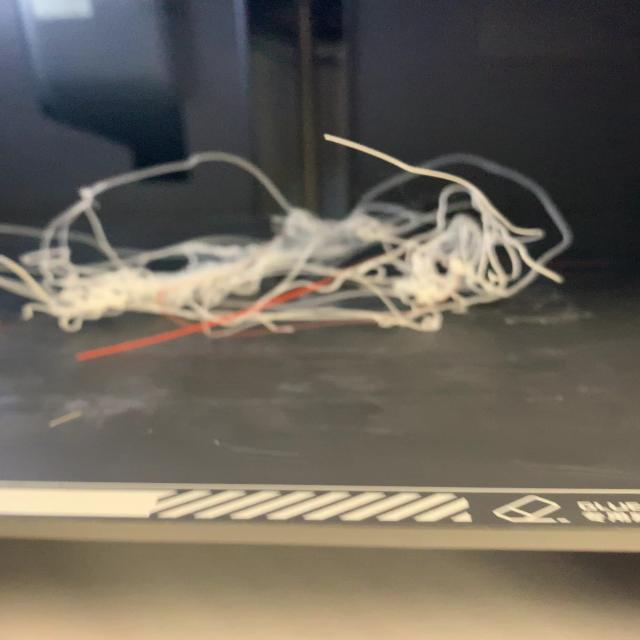spaghetti: (4, 131, 577, 363)
